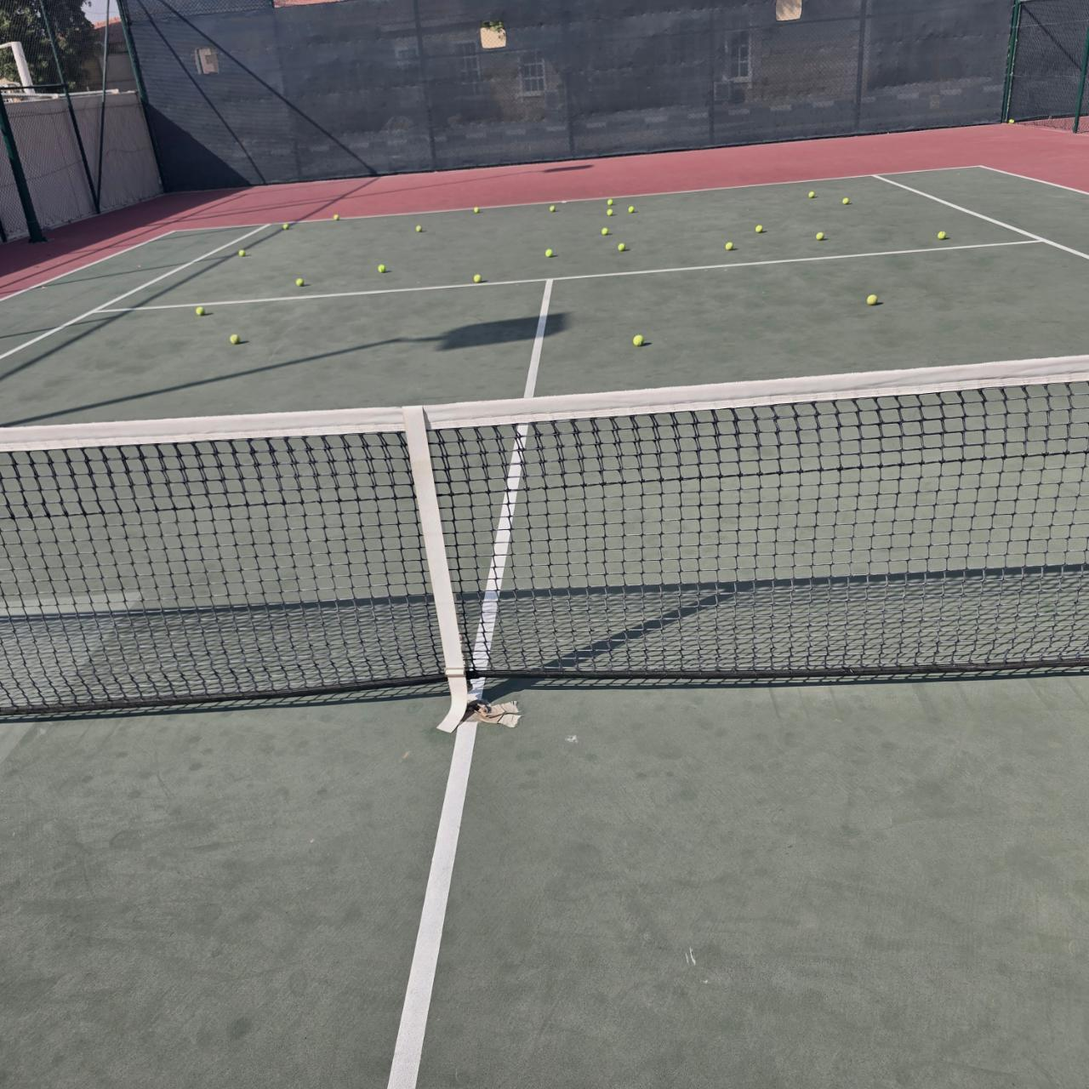tennis-ball: (632, 332, 645, 346), (867, 292, 879, 305), (229, 333, 241, 345), (725, 239, 736, 250), (937, 230, 947, 240), (295, 277, 305, 287), (195, 306, 205, 316), (755, 224, 764, 234), (617, 243, 626, 252), (545, 249, 554, 258), (377, 264, 386, 273), (473, 274, 482, 283), (815, 232, 825, 240), (601, 227, 609, 236), (606, 208, 614, 216), (606, 198, 614, 206), (238, 249, 246, 257), (842, 197, 850, 204), (415, 225, 422, 233), (808, 191, 815, 198), (549, 205, 556, 212), (333, 214, 340, 221), (282, 223, 289, 230), (628, 205, 634, 213), (473, 206, 480, 212), (1009, 119, 1015, 124)
